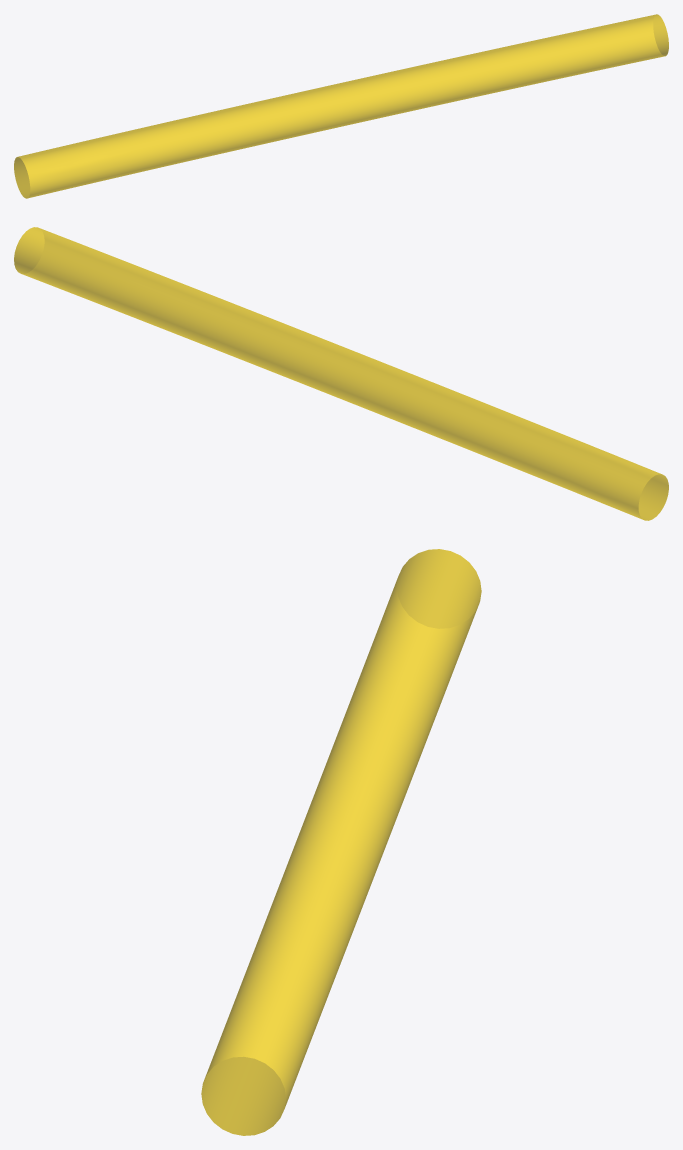
File: Event_75125125_track_67.fbx
The picture shows the model from 3 angles, top to bottom: view 1: azimuth 30°, elevation 25°; view 2: azimuth 150°, elevation 25°; view 3: azimuth 270°, elevation 25°; orthographic projection. The views are drawn at different scales.
Visible parts, largest first — view 1: Model; view 2: Model; view 3: Model.
Boxes of the visible parts, x1,y1,x2,y2 form: Model: [14, 14, 668, 198]; Model: [14, 227, 668, 520]; Model: [201, 549, 481, 1135].
Bounding box in the file's own units: 0.6421 × 0.0752 × 0.1308.
